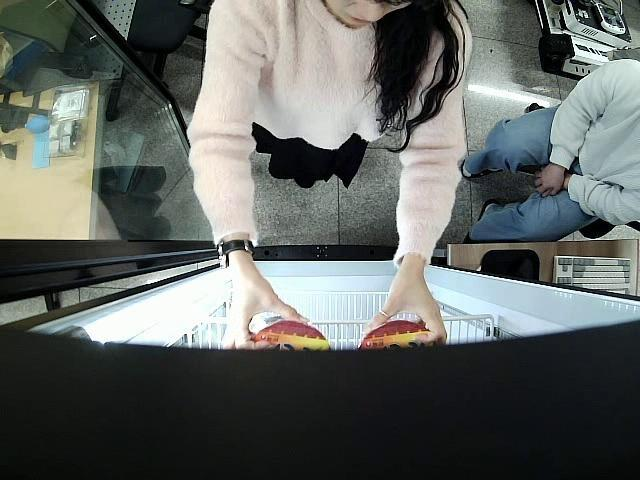05_nuguri_L: (246, 318, 333, 353), (356, 320, 449, 352)
